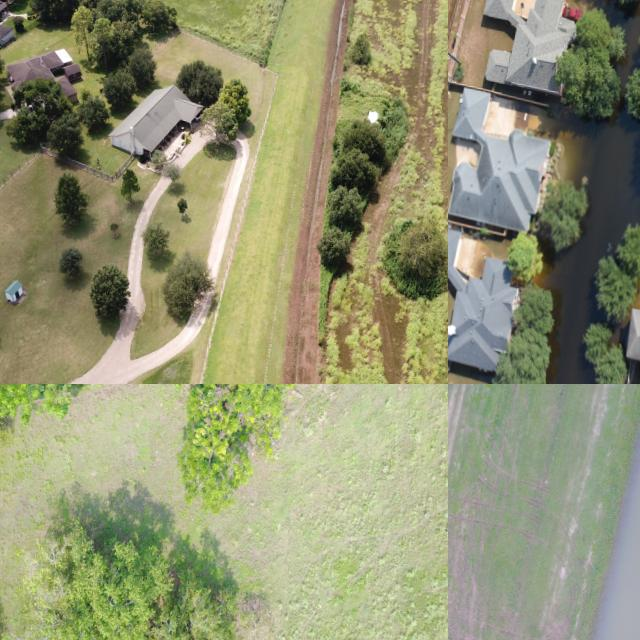fire: (541, 101, 640, 384), (594, 0, 640, 86)
